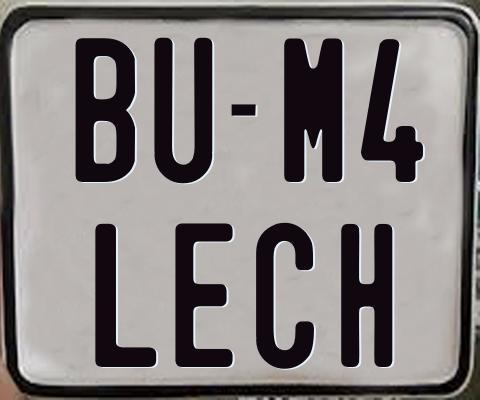4: (359, 39, 424, 184)
B: (74, 36, 134, 182)
C: (256, 221, 320, 371)
E: (175, 221, 234, 367)
H: (341, 224, 396, 371)
L: (93, 223, 157, 367)
M: (283, 35, 346, 180)
U: (152, 37, 215, 188)
